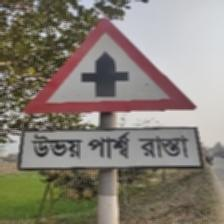Crossroad: (20, 19, 201, 224)
